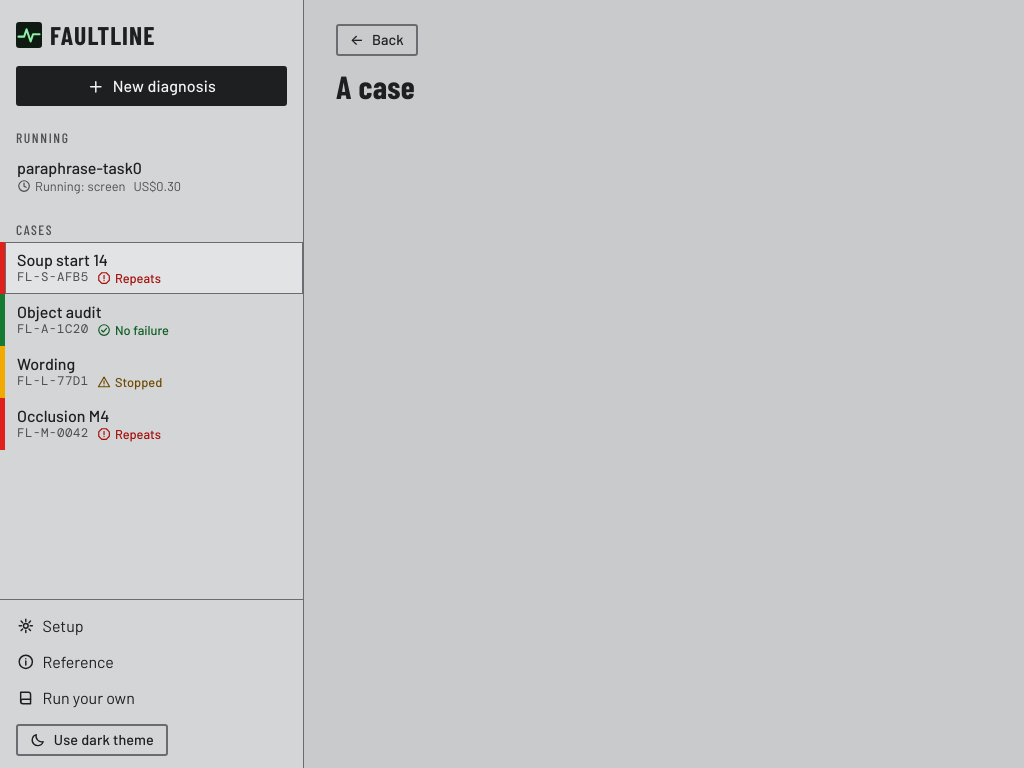
Test: Shell in local mode › always returns home even when the previous app page was a case
Step 1. Click the link "Setup" → (50, 626), box [17,616,84,635]
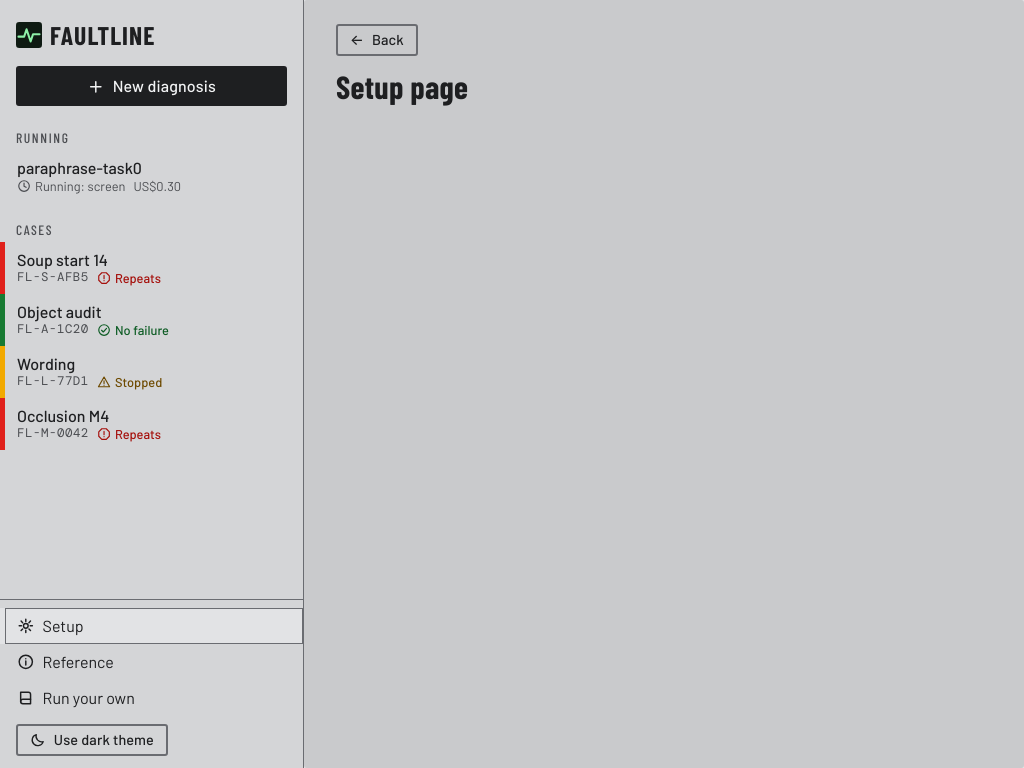
Now the heading "Setup page" is shown, box [336,67,468,105]
Step 2. Click the button "← Back" → (377, 40), box [336,24,418,56]
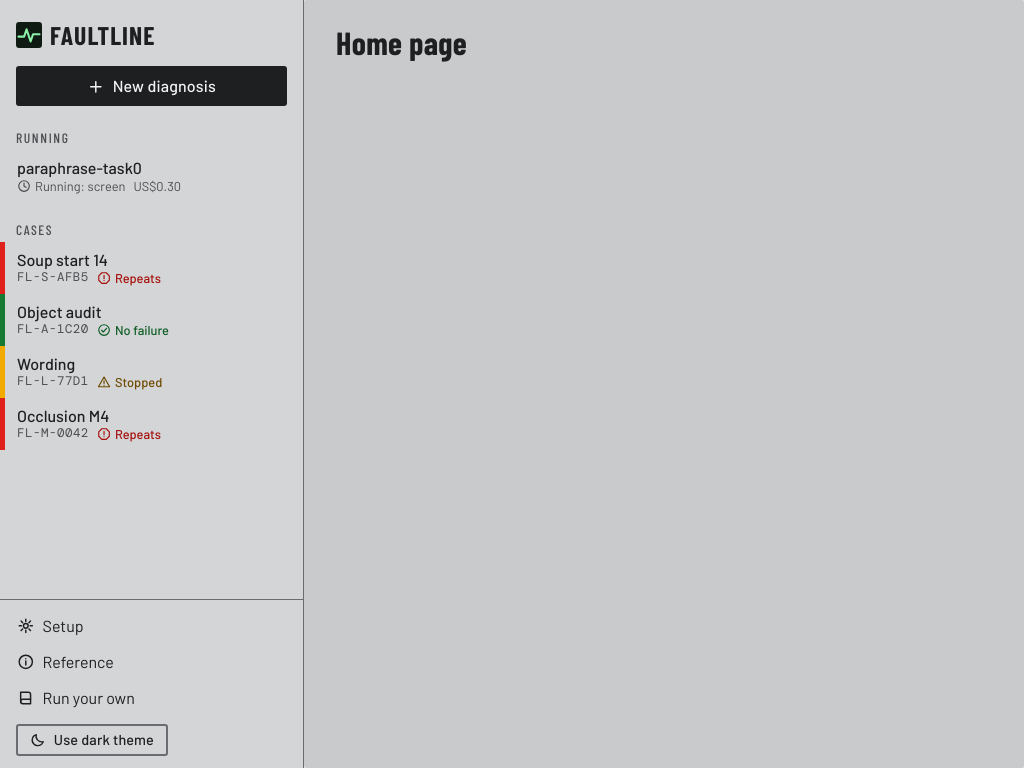
Now the heading "Home page" is shown, box [336,23,467,61]
